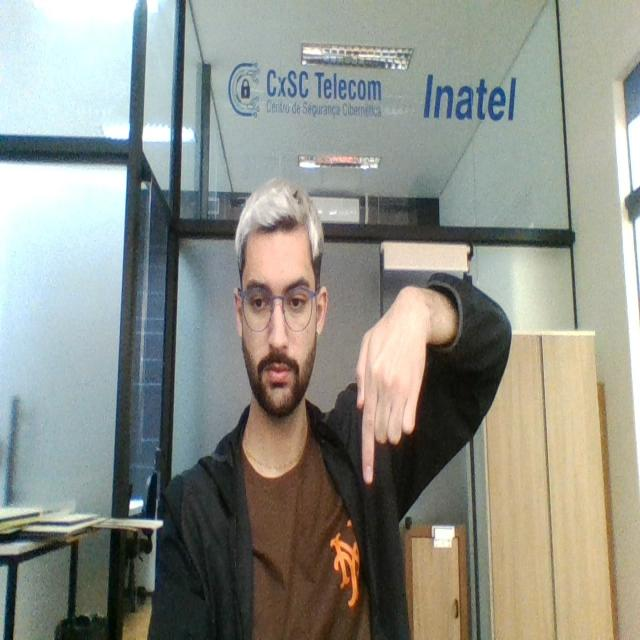Q: (355, 282, 428, 492)
